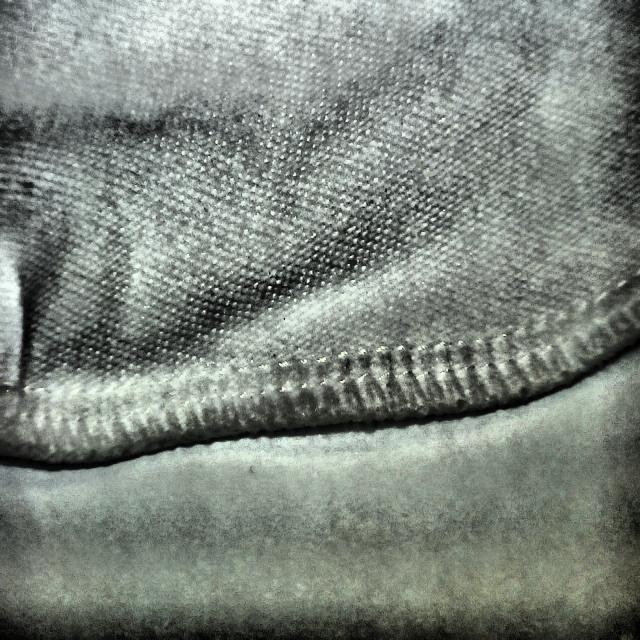seam: (0, 262, 102, 486)
